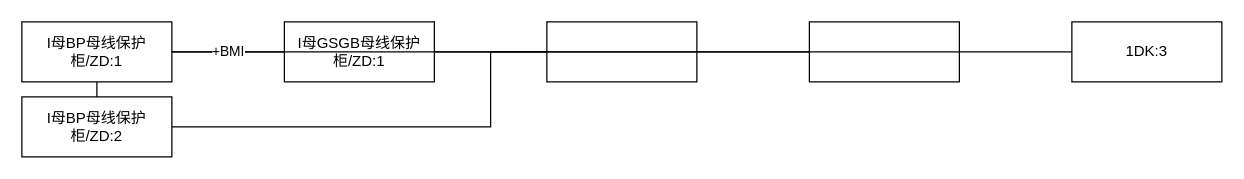
This 1244x179 diagram has some shape labels left out. Each missing label, with the box of its shape:
1DK1:3: (546, 21, 697, 82)
1DK2:3: (808, 21, 959, 82)
